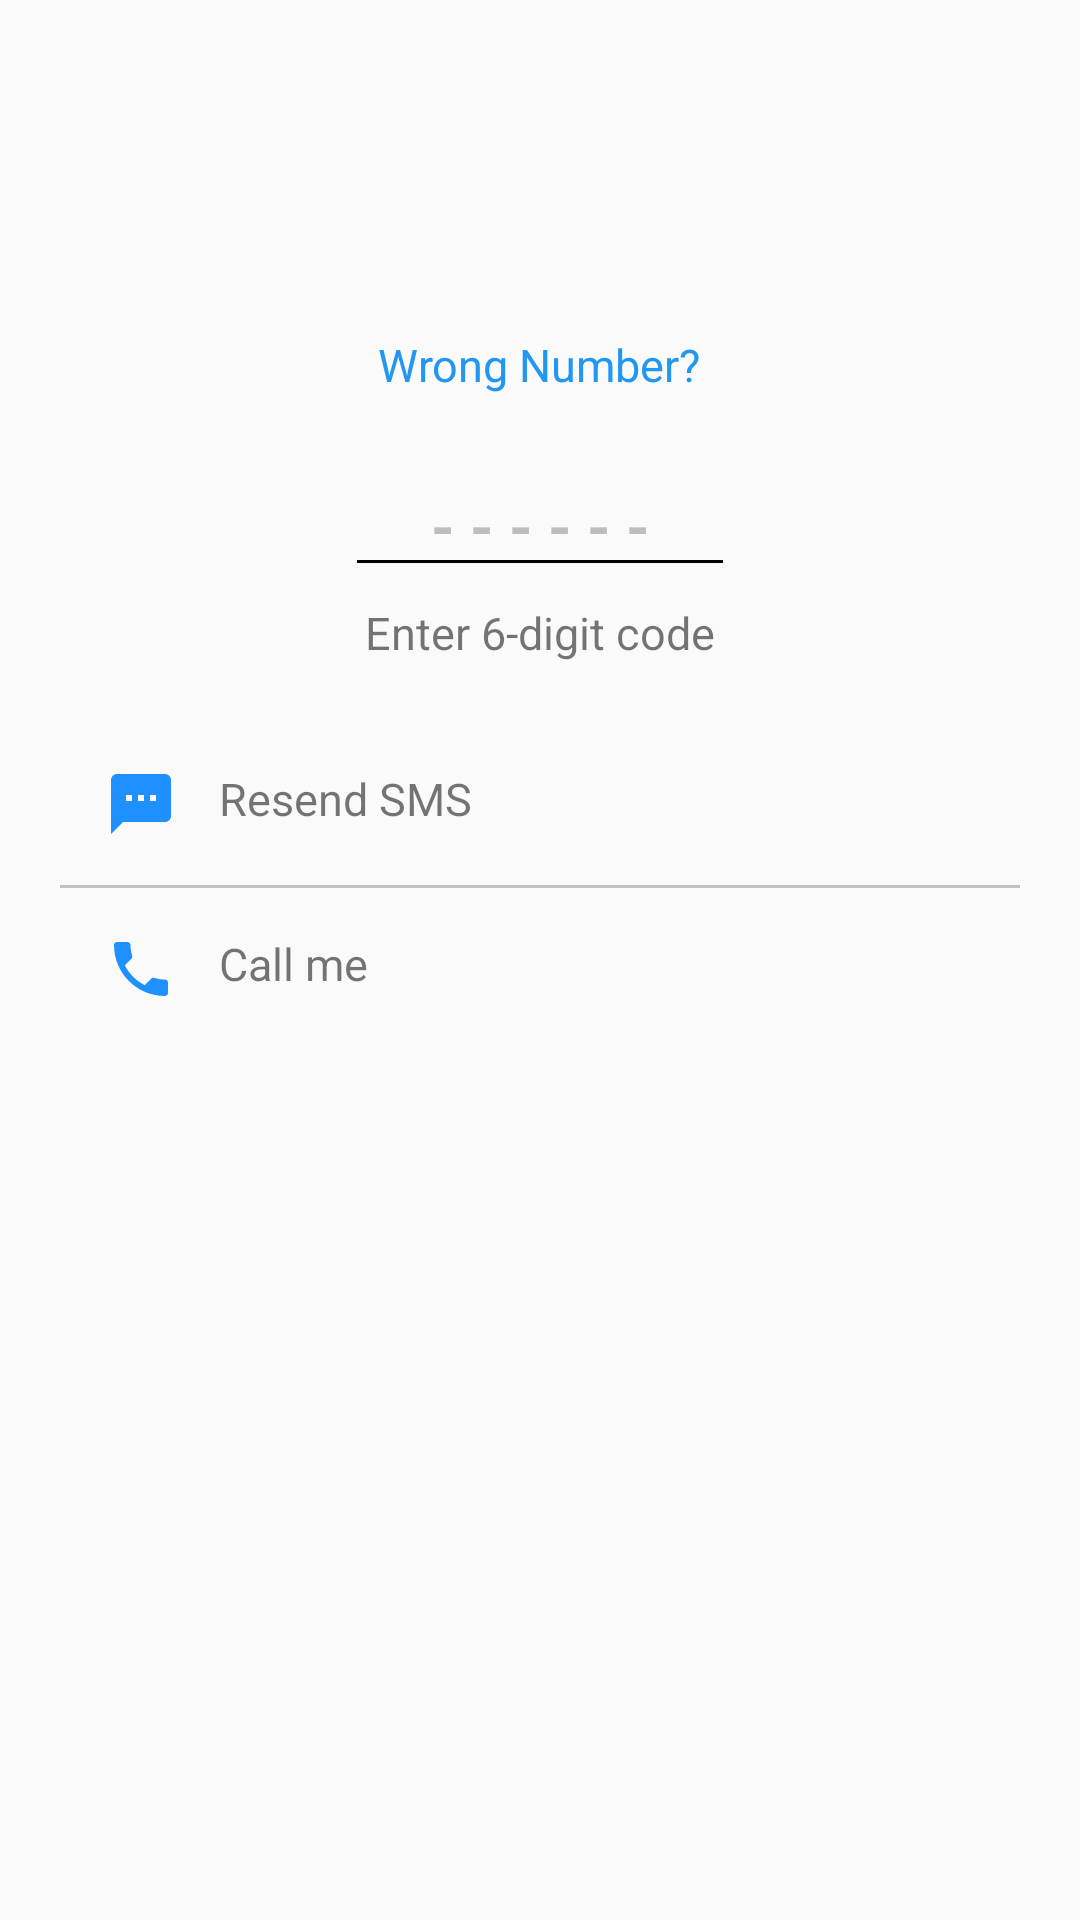

Screen size 1080w x 1920h. Icon name, then its box in pixels as box=[x1, y1, x2, y2]:
messages: box=[111, 774, 171, 834]
